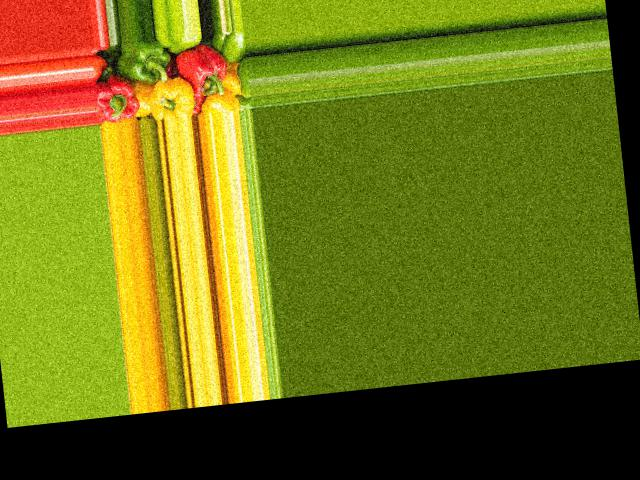bell_pepper: (95, 72, 146, 124)
